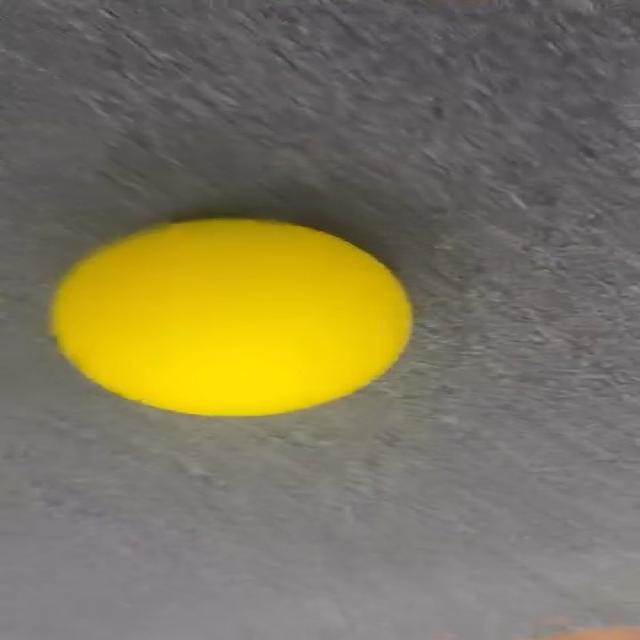Fuels: (53, 218, 409, 416)
